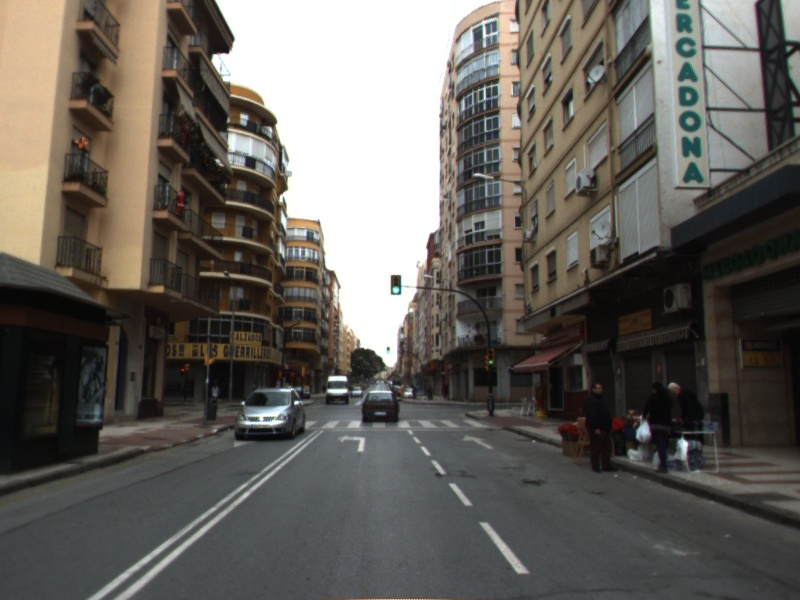LEFT: (336, 433, 367, 453)
STRAIGHT: (461, 433, 495, 451)
